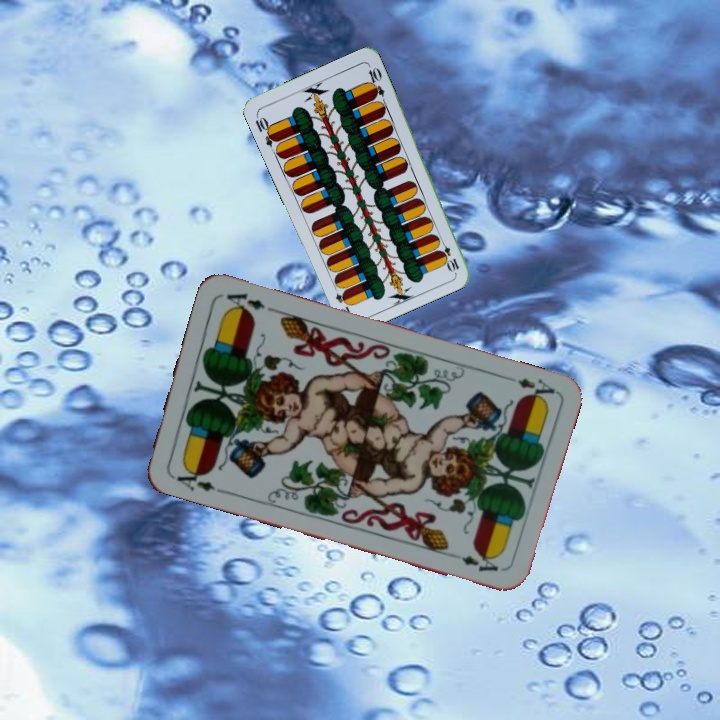E10: (251, 111, 280, 149), (435, 235, 462, 274)
EA: (168, 462, 226, 497), (513, 374, 558, 404)
